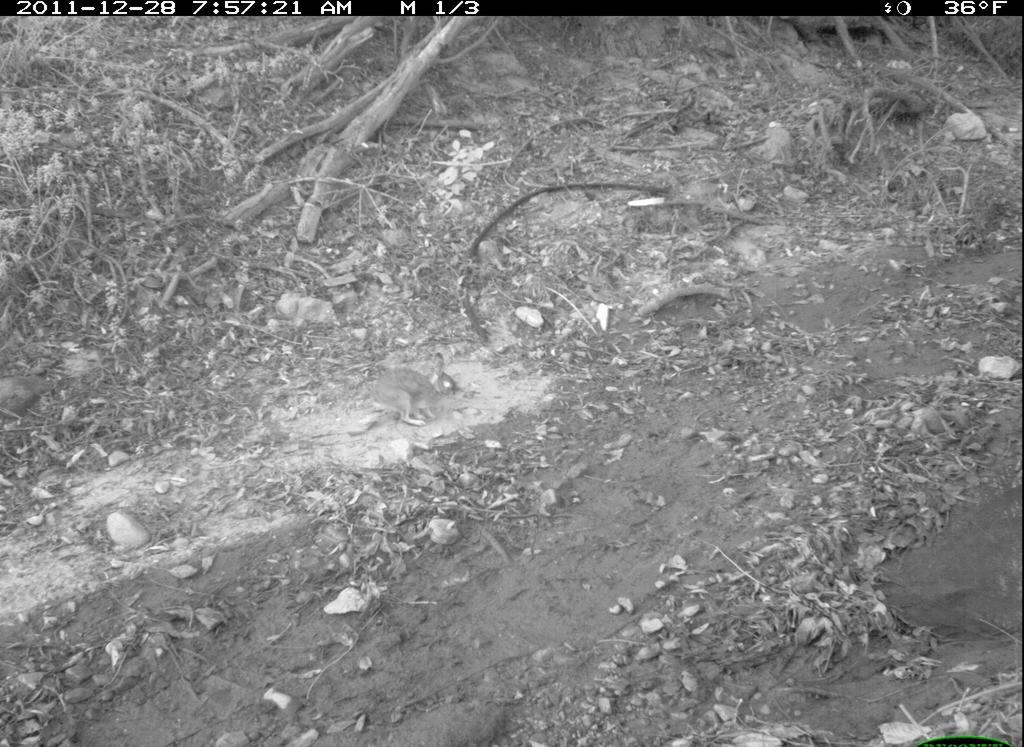rabbit: (350, 336, 469, 442)
